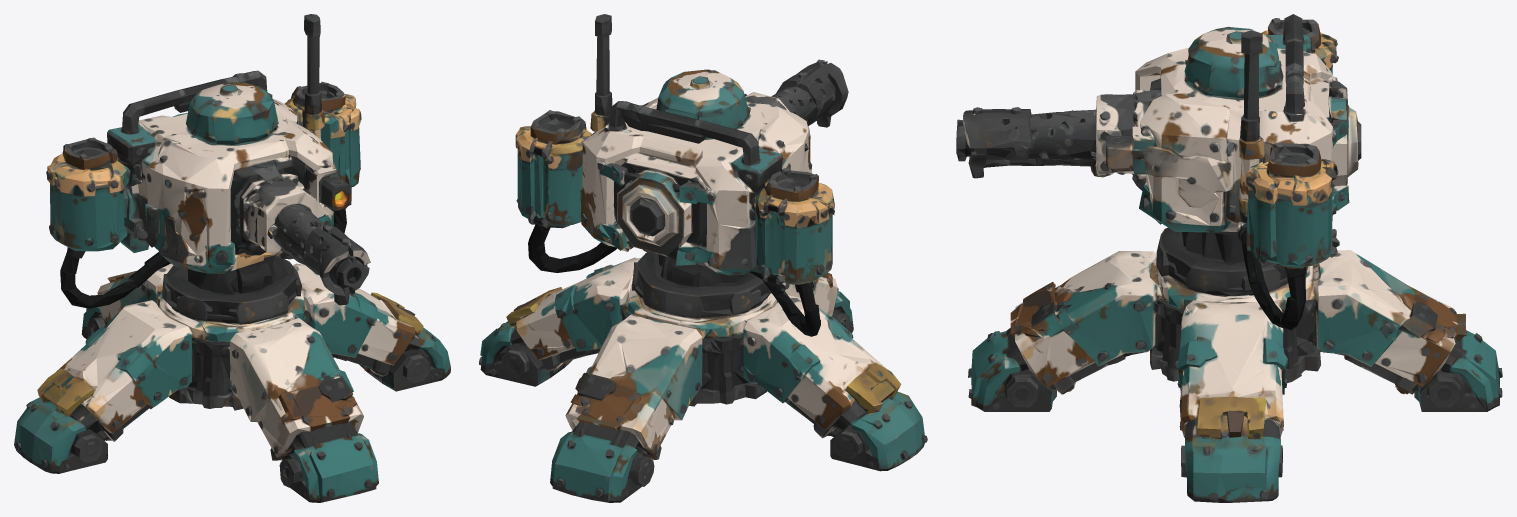
Rendered from Meshy_AI_Teal_Bastion_Gunner_20261028_texture_remesh_tri.fbx.
3 views of the same model, side by side, from view 1: azimuth 30°, elevation 25°; view 2: azimuth 150°, elevation 25°; view 3: azimuth 270°, elevation 25° (orthographic). The views are drawn at different scales.
Parts seen in each view (by area): view 1: output_unwrapped; view 2: output_unwrapped; view 3: output_unwrapped.
Boxes of the visible parts, x1,y1,x2,y2 form: output_unwrapped: (14,14,450,502); output_unwrapped: (479,14,927,502); output_unwrapped: (956,14,1502,502).
Bounding box in the file's own units: 183 × 156 × 189.
1 material, 1 textured.
